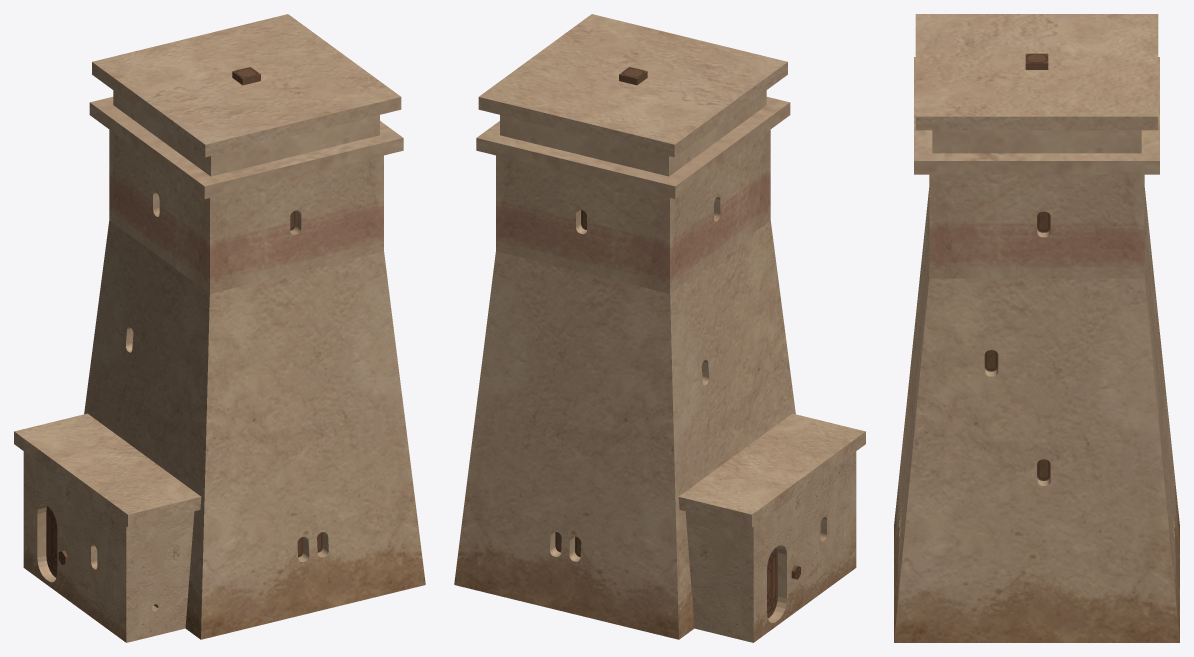
Rendered from building_3.glb.
3 views of the same model, side by side, from view 1: azimuth 30°, elevation 25°; view 2: azimuth 150°, elevation 25°; view 3: azimuth 270°, elevation 25° (orthographic). The views are drawn at different scales.
Visible parts, largest first — view 1: Object_7.001; view 2: Object_7.001; view 3: Object_7.001.
Part boxes in pixels (bbox=[...]): Object_7.001: bbox=[14, 14, 425, 642]; Object_7.001: bbox=[454, 14, 865, 642]; Object_7.001: bbox=[894, 14, 1179, 642].
Bounding box in the file's own units: 9.44 × 15.36 × 7.57.
Materials: 1 (1 with a texture image).
